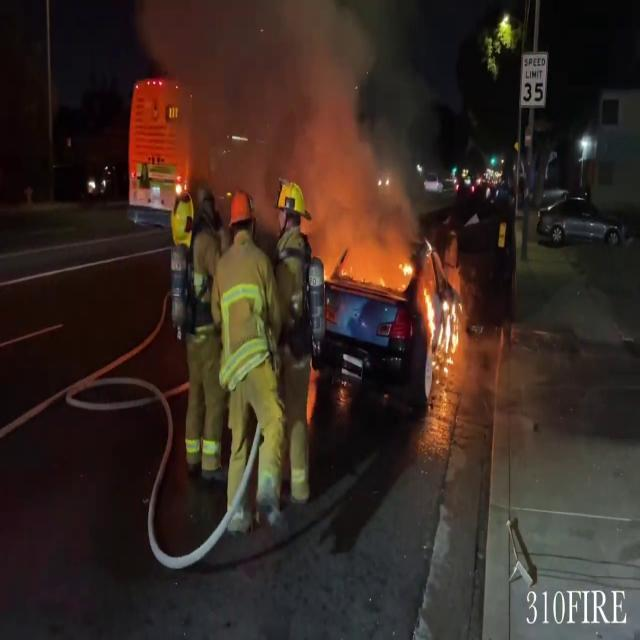Fire: (419, 279, 463, 372)
Smoke: (136, 0, 427, 289)
